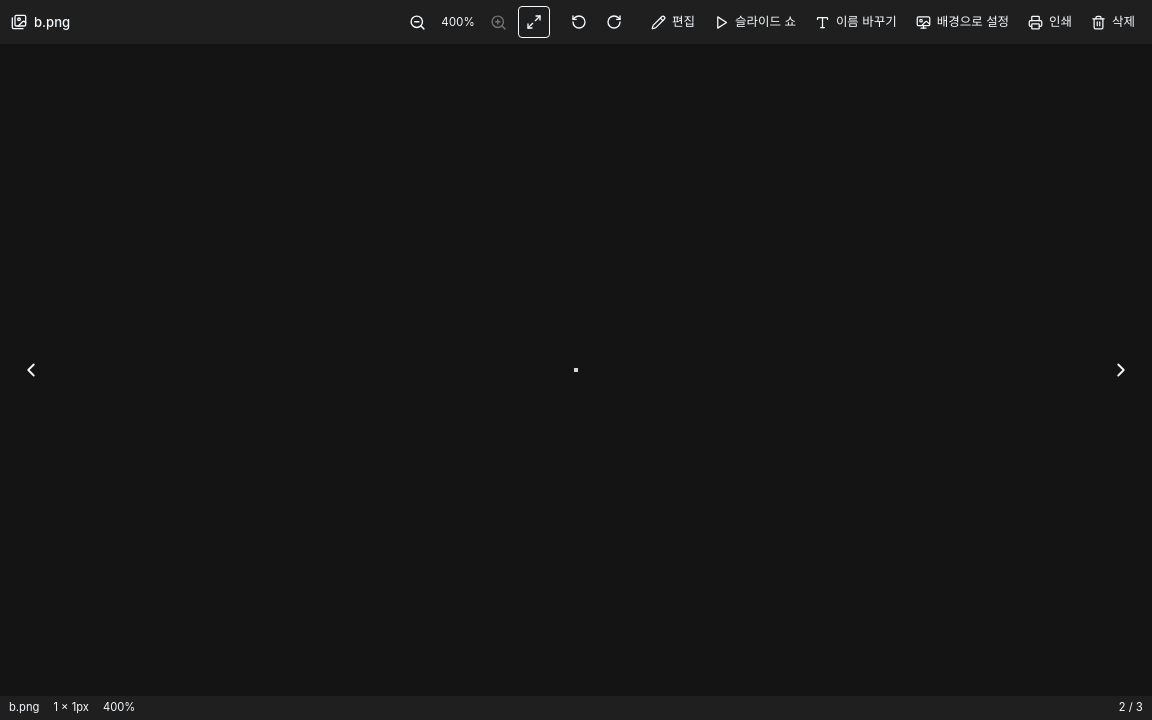
Test: PhotosApp 탐색 › 다음 사진 버튼이 이름순으로 넘어가고 끝에서 처음으로 돈다
Click the button named "다음 사진".
click(1121, 370)  # box [1102,351,1140,389]
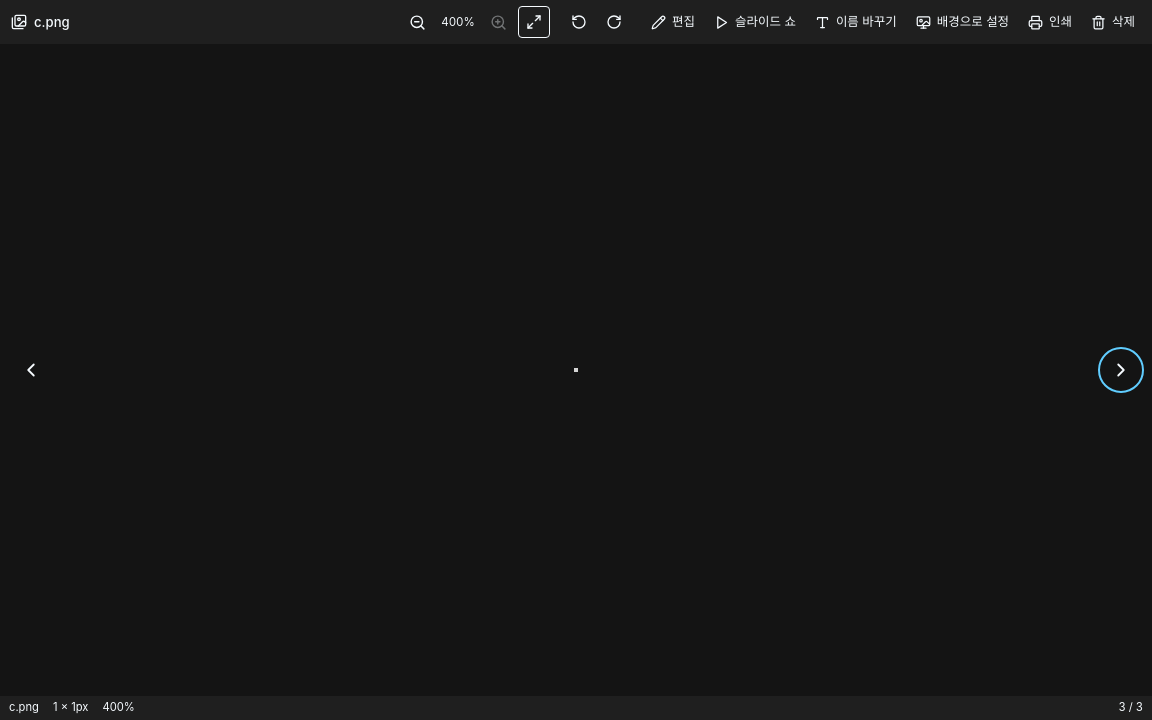
Result: the text "3 / 3" is shown at [1118,700,1143,716]
Click the button named "다음 사진".
click(1121, 370)  # box [1102,351,1140,389]
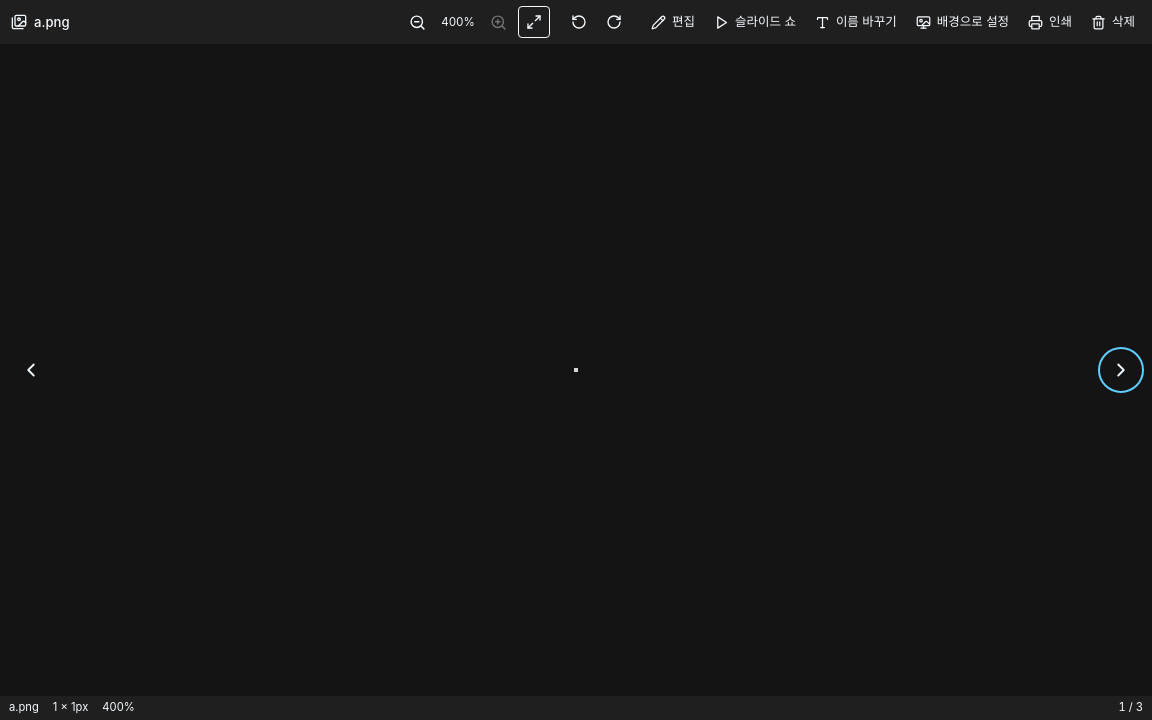
Result: the text "1 / 3" is shown at [1118,700,1143,716]
